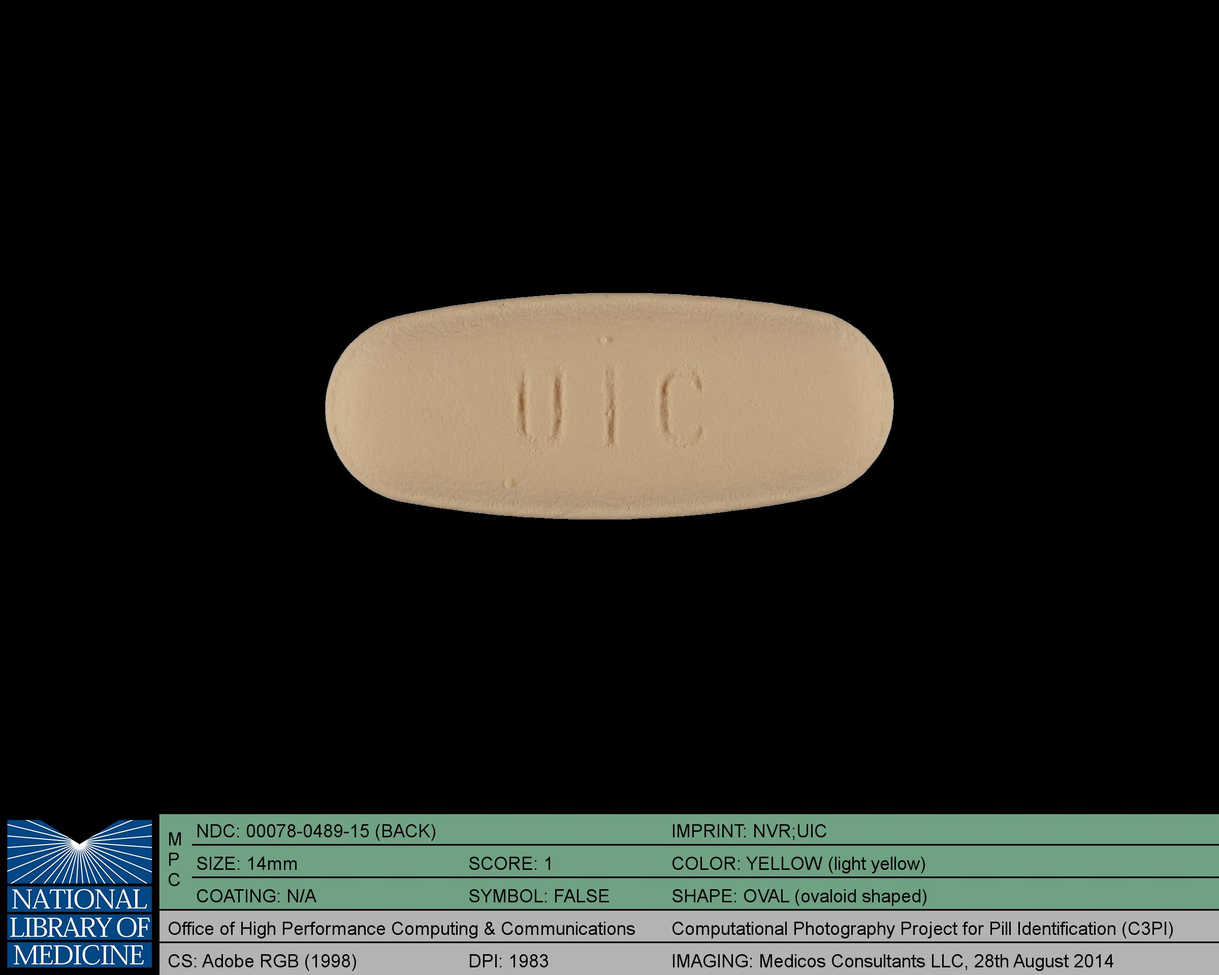Pill: (312, 281, 911, 532)
